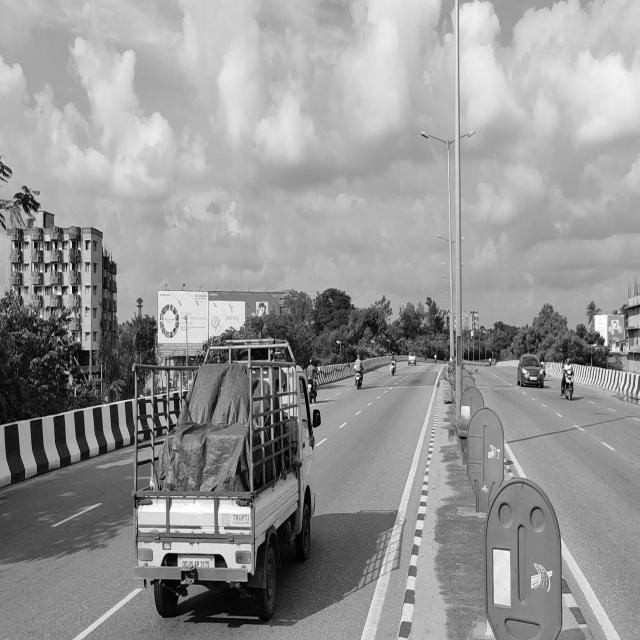bike: (547, 338, 594, 410), (301, 339, 332, 415), (348, 328, 372, 399)
car: (503, 344, 552, 409)
license-plate: (176, 547, 224, 581)
truck: (99, 310, 331, 634)
